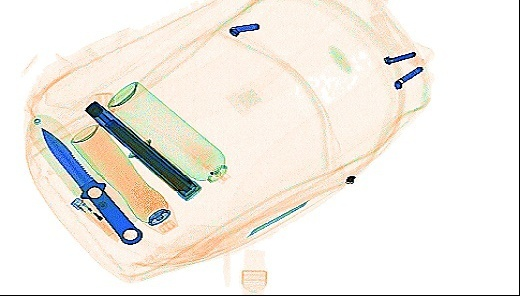knife: (25, 112, 141, 242)
lighter: (68, 193, 117, 239)
pressure: (69, 123, 176, 235), (106, 81, 227, 180)
